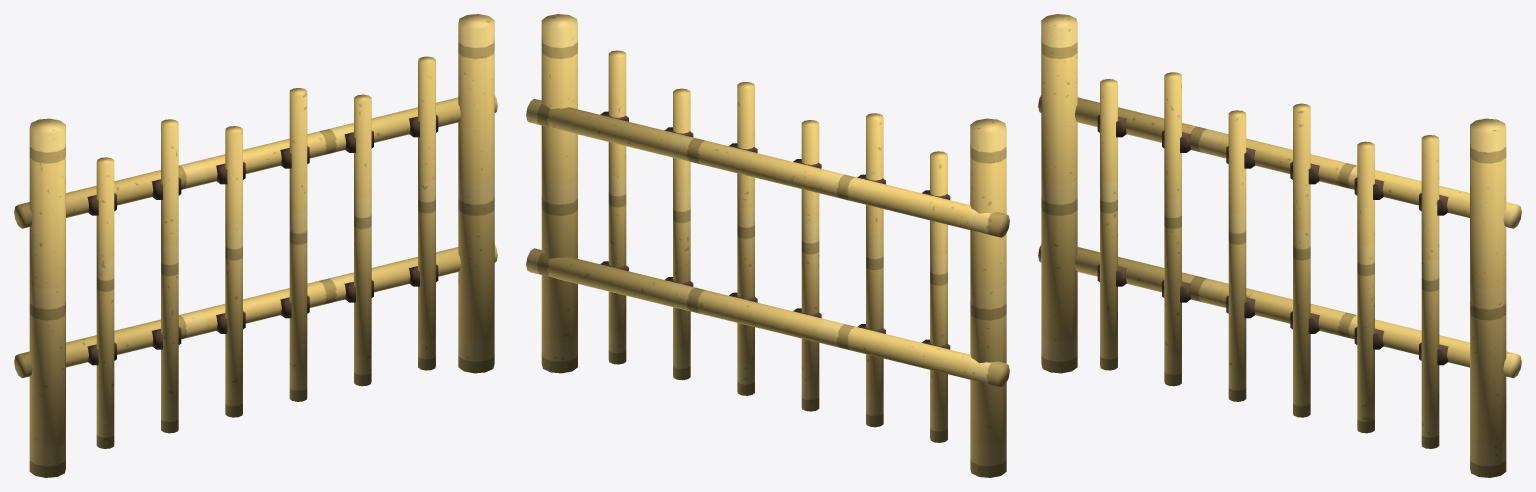
File: bamboo_fence.glb
3 views of the same model, side by side, from view 1: azimuth 30°, elevation 25°; view 2: azimuth 150°, elevation 25°; view 3: azimuth 330°, elevation 25° (orthographic).
Parts seen in each view (by area): view 1: BambooFence; view 2: BambooFence; view 3: BambooFence.
Boxes of the visible parts, bbox=[...] form: BambooFence: bbox=[14, 14, 497, 477]; BambooFence: bbox=[526, 14, 1009, 477]; BambooFence: bbox=[1038, 14, 1521, 477].
Size of the model in its own units: 1.32 by 0.92 by 0.105.
Materials: 1 (1 with a texture image).
